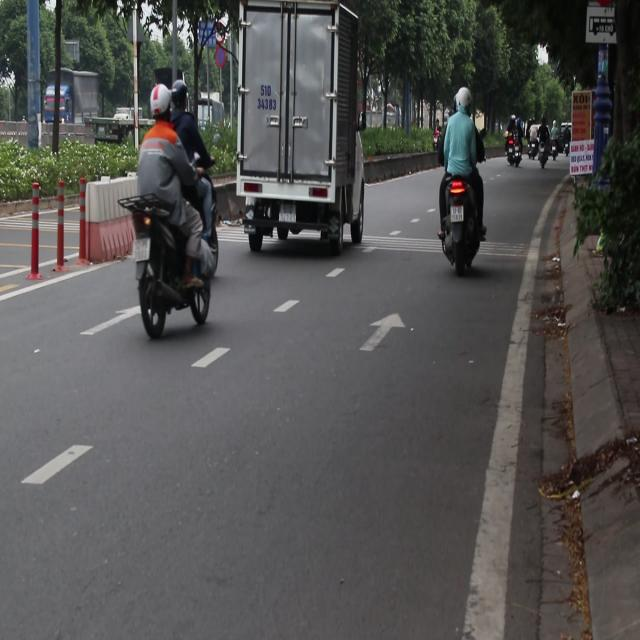car: (556, 123, 570, 156)
motorbike: (123, 193, 216, 341), (438, 174, 486, 275), (505, 130, 524, 170), (538, 138, 548, 169)
truck: (224, 2, 369, 256), (42, 70, 104, 139), (114, 101, 141, 127)
